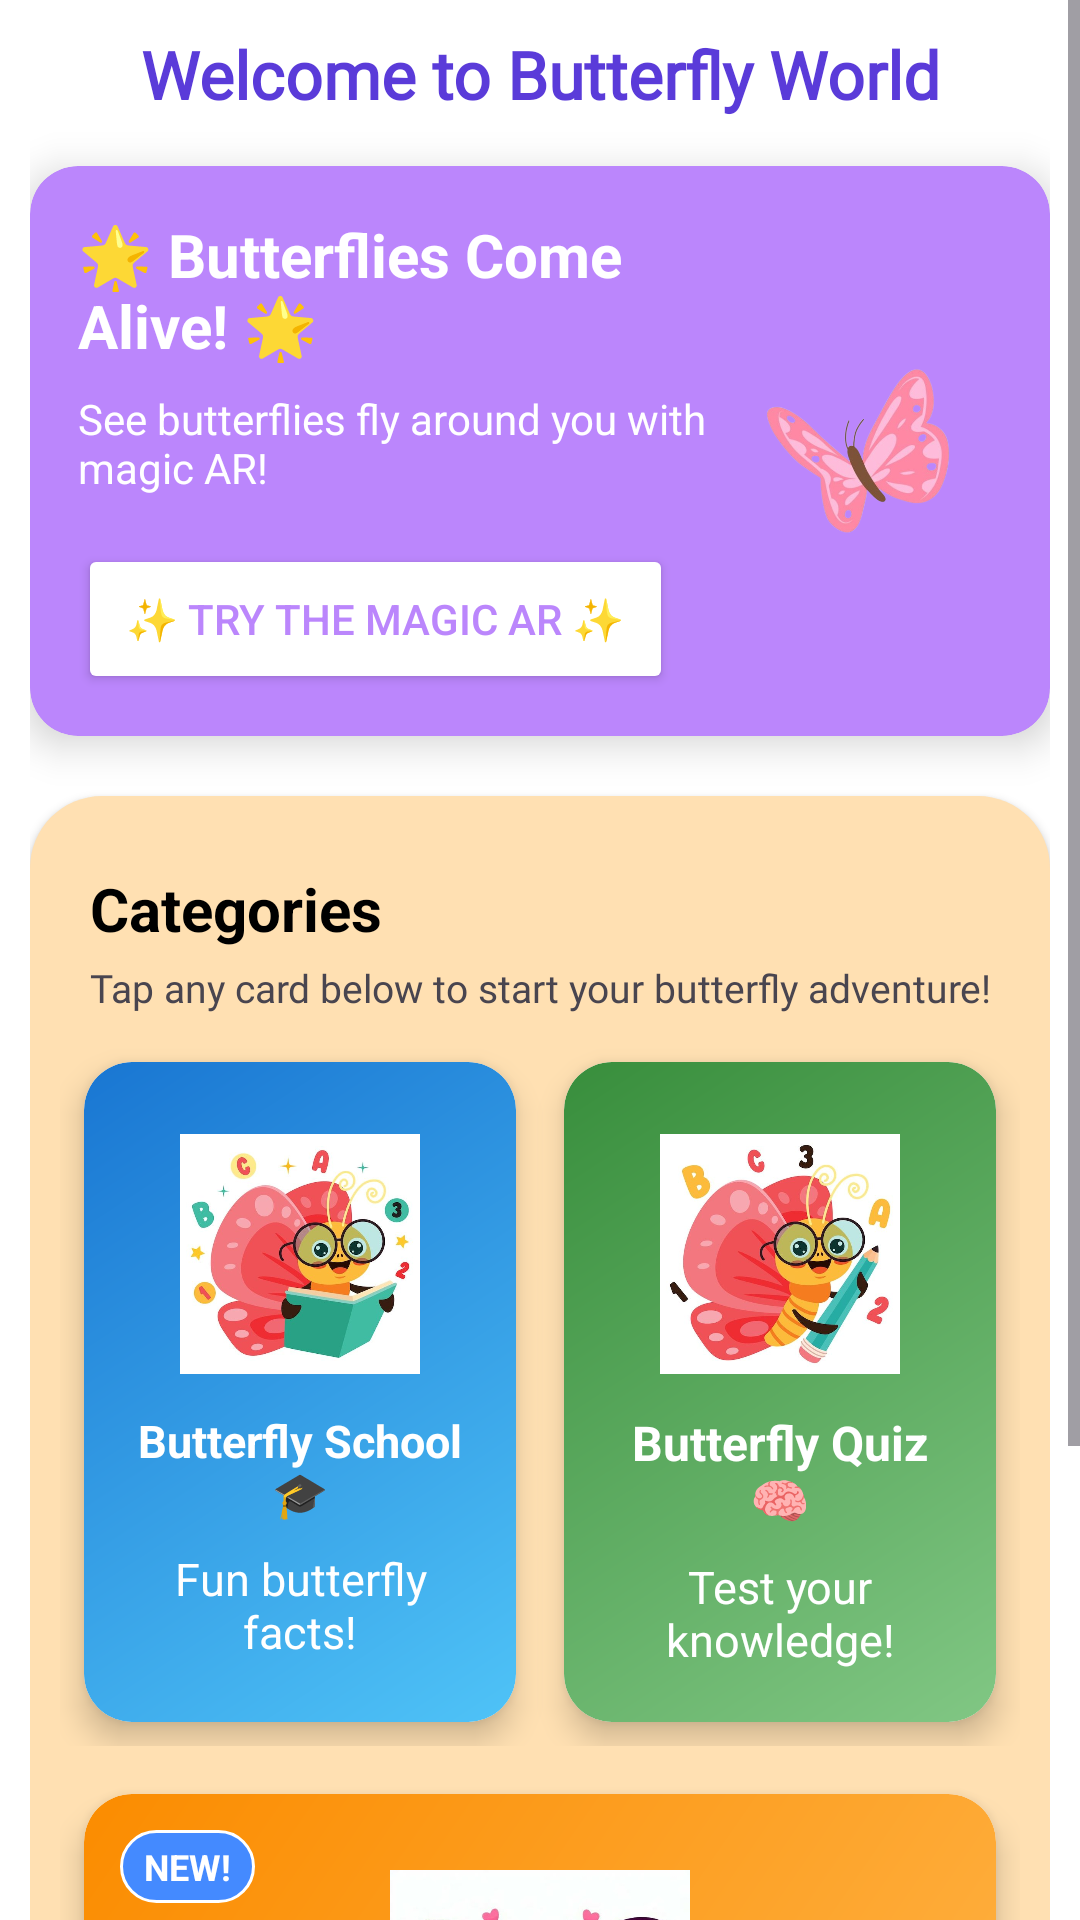

Icons on this 1080 x 1920 Android screen, each with the point to tap as (x,y):
butterfly: (858,451)
